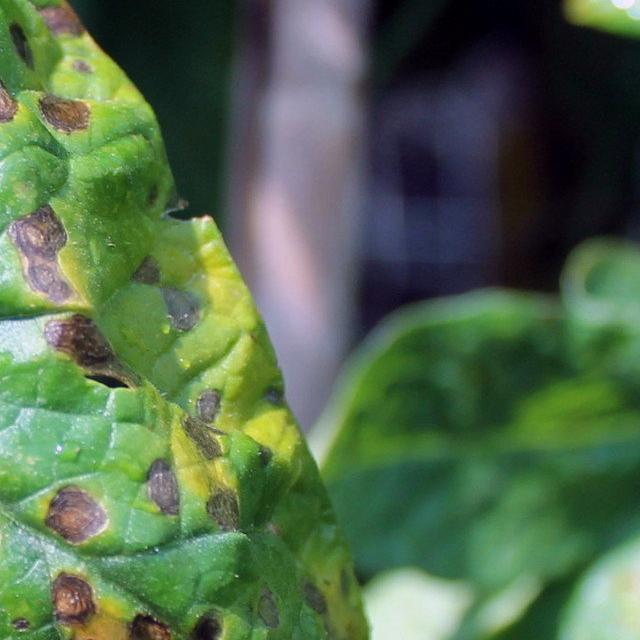Tomato Septoria leaf spot: (0, 0, 417, 640)
